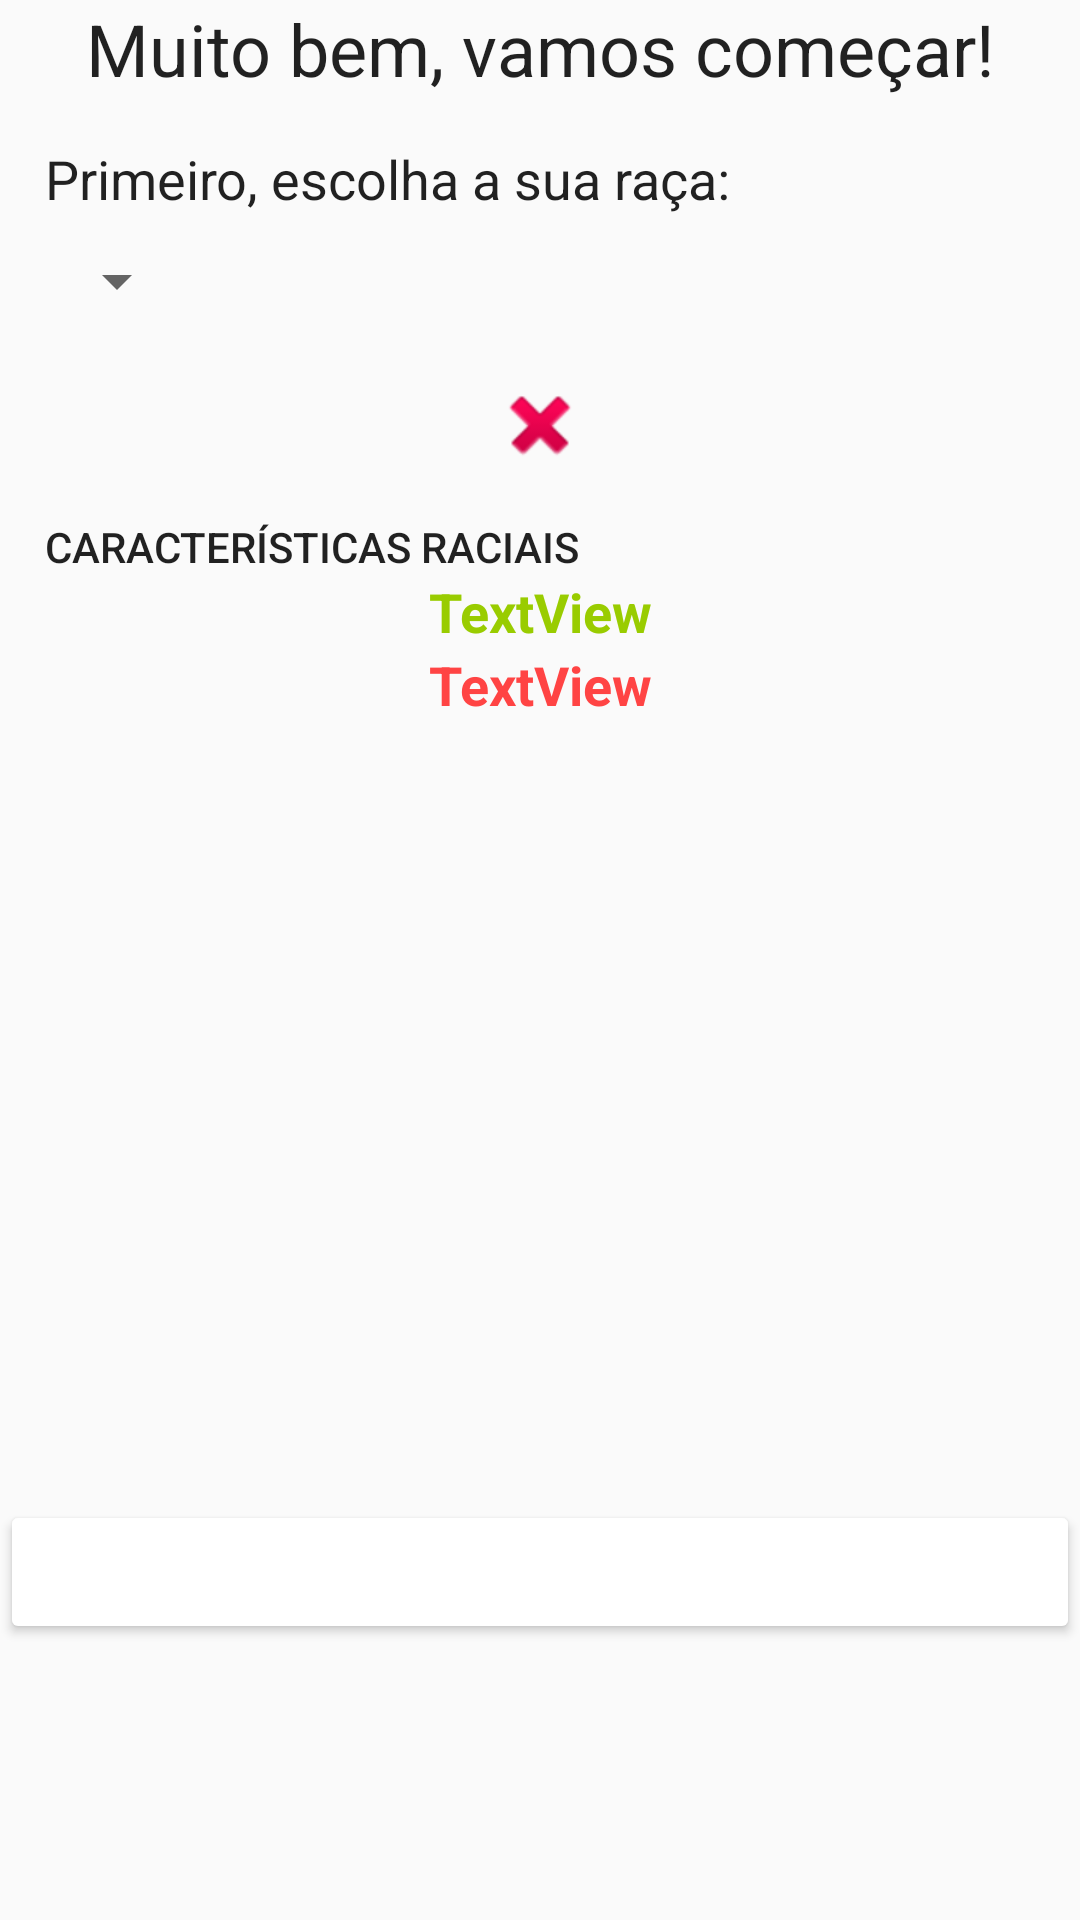

Screen size 1080×1920. Icon name, then its box in pixels as (x1, y1, x2, y2):
delete: (509, 396, 571, 455)
